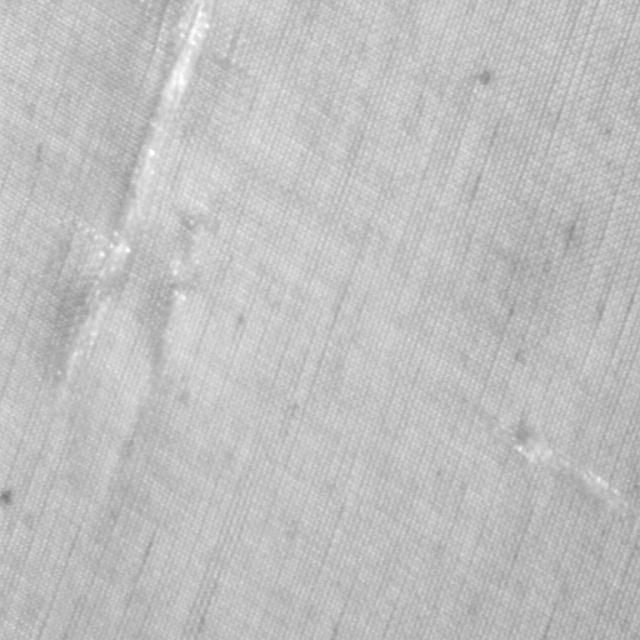thread error: (25, 0, 220, 398), (505, 408, 639, 532), (137, 204, 220, 370)
